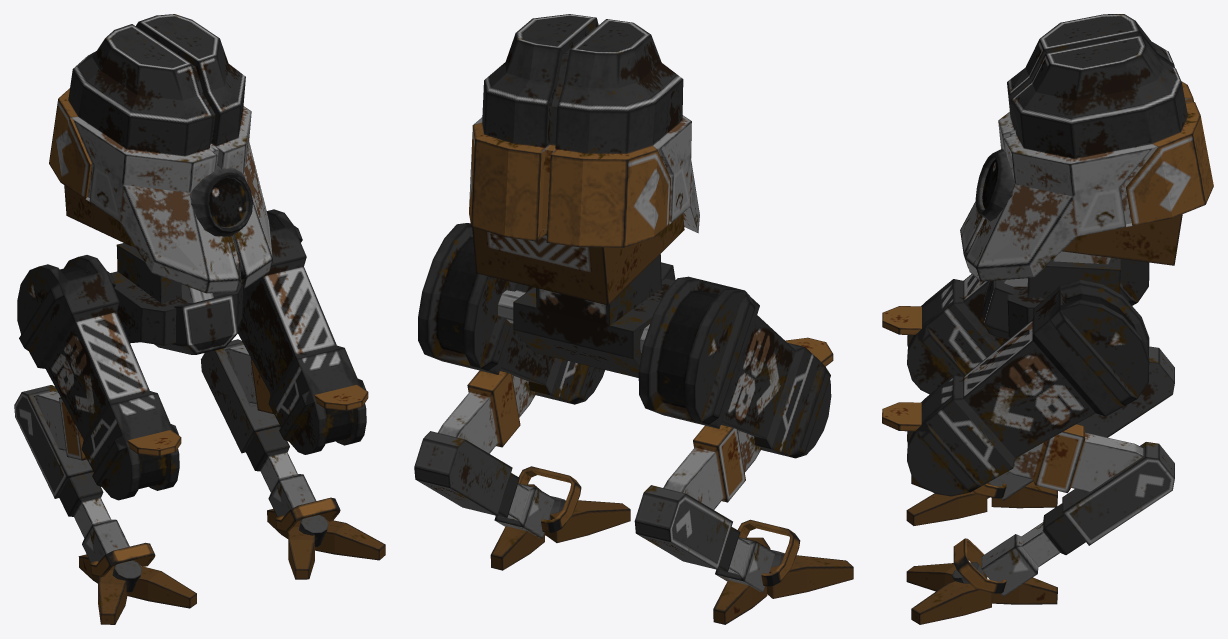
Rendered from enemy_leela.glb.
3 views of the same model, side by side, from view 1: azimuth 30°, elevation 25°; view 2: azimuth 150°, elevation 25°; view 3: azimuth 270°, elevation 25° (orthographic). The views are drawn at different scales.
Visible parts, largest first — view 1: mesh_0; view 2: mesh_0; view 3: mesh_0.
Boxes of the visible parts, <box> form: mesh_0: <box>14,14,385,624</box>; mesh_0: <box>414,14,853,624</box>; mesh_0: <box>882,14,1213,624</box>.
Size of the model in its own units: 0.9379 by 1.55 by 0.8982.
1 material, 1 textured.
